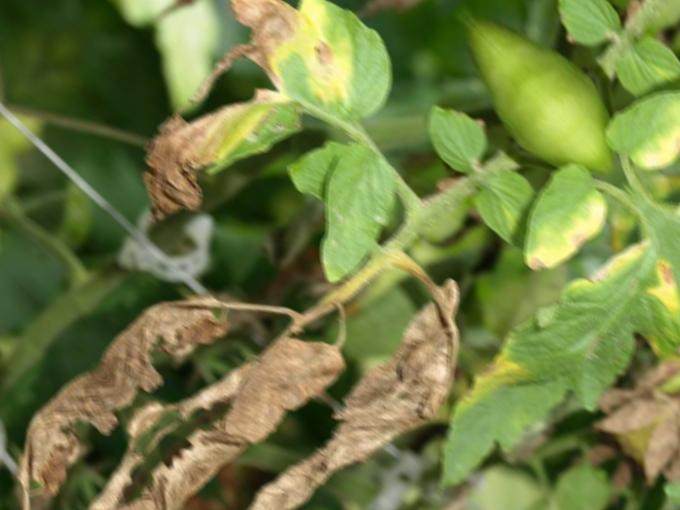Tomato Early blight leaf: (394, 224, 680, 510), (209, 0, 430, 150), (484, 142, 641, 298)
Tomato leaf: (264, 128, 430, 293)
